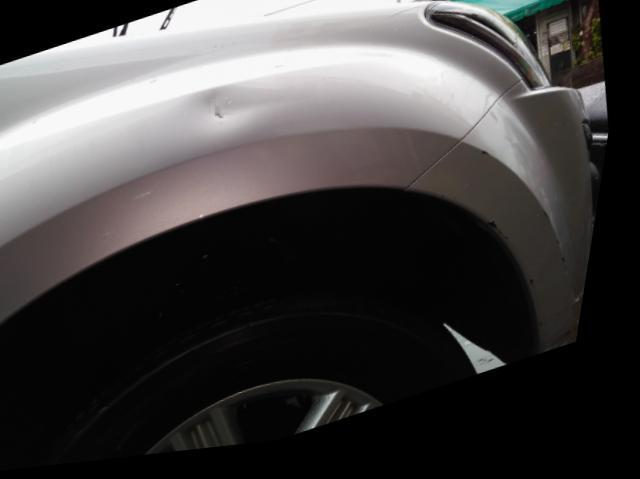dent: (192, 92, 279, 139)
scratch: (495, 233, 546, 302), (551, 222, 579, 288)
